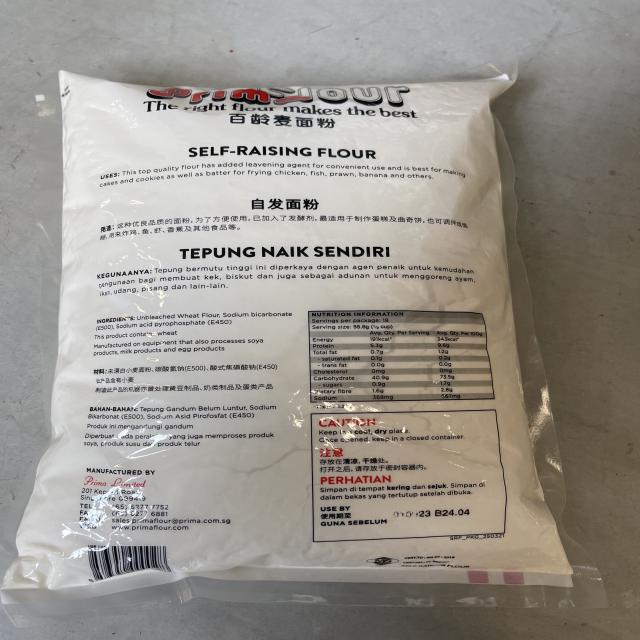object_name: (53, 82, 536, 584)
